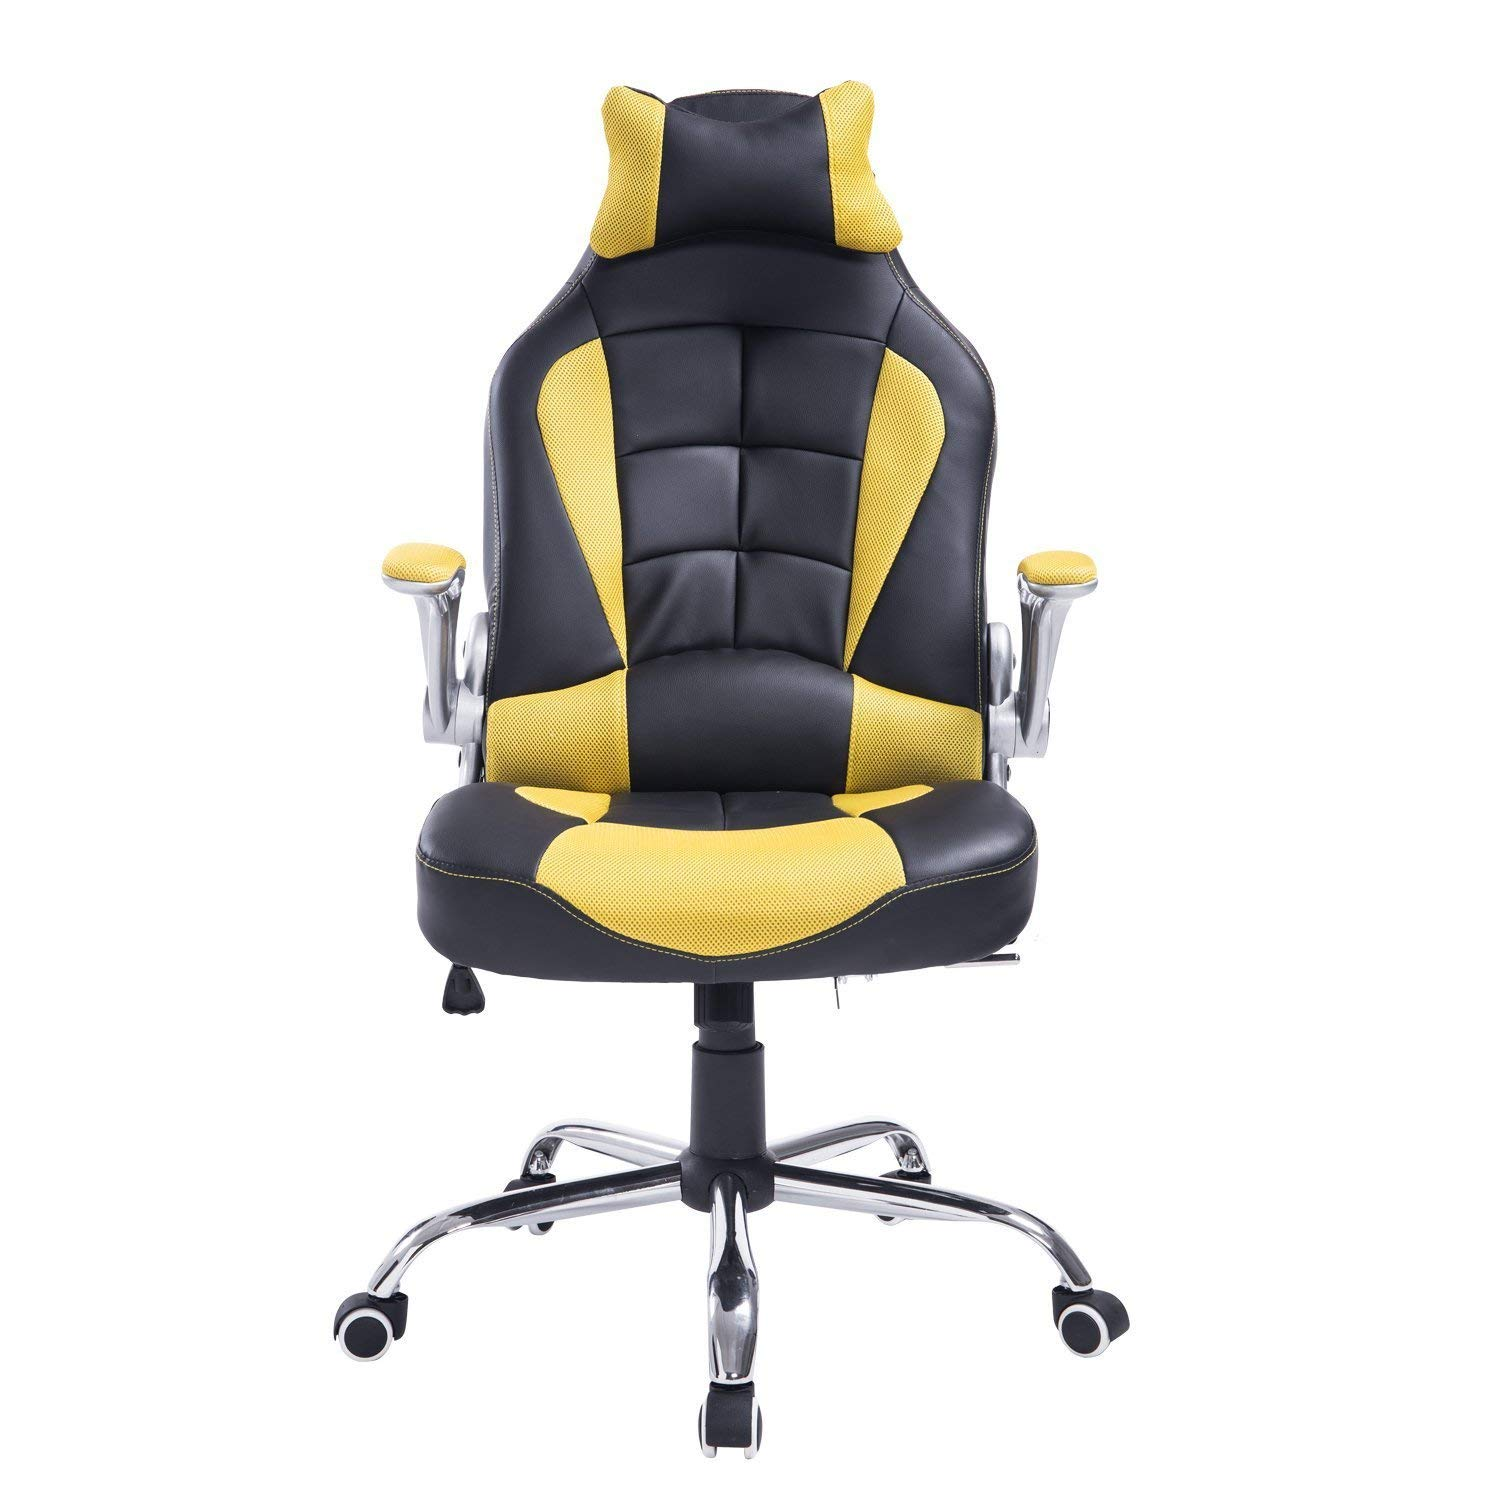chairs: (339, 77, 1136, 1473)
